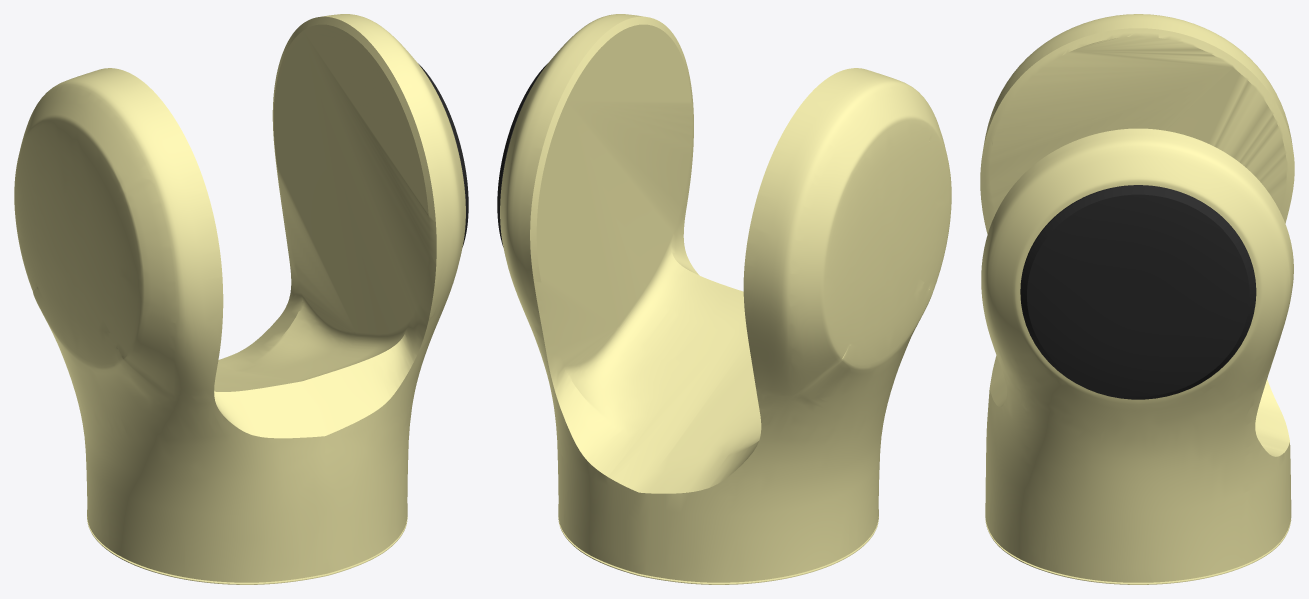
Rendered from shoulder_roll_r_j2_link.glb.
3 views of the same model, side by side, from view 1: azimuth 30°, elevation 25°; view 2: azimuth 150°, elevation 25°; view 3: azimuth 270°, elevation 25° (orthographic). The views are drawn at different scales.
Visible parts, largest first — view 1: Mesh_0.029; view 2: Mesh_0.029; view 3: Mesh_0.029.
Part boxes in pixels (x1=…): Mesh_0.029: x1=14, y1=14, x2=468, y2=584; Mesh_0.029: x1=497, y1=14, x2=951, y2=584; Mesh_0.029: x1=980, y1=14, x2=1294, y2=584.
Size of the model in its own units: 0.1184 by 0.1533 by 0.0988.
2 materials, 1 textured.
